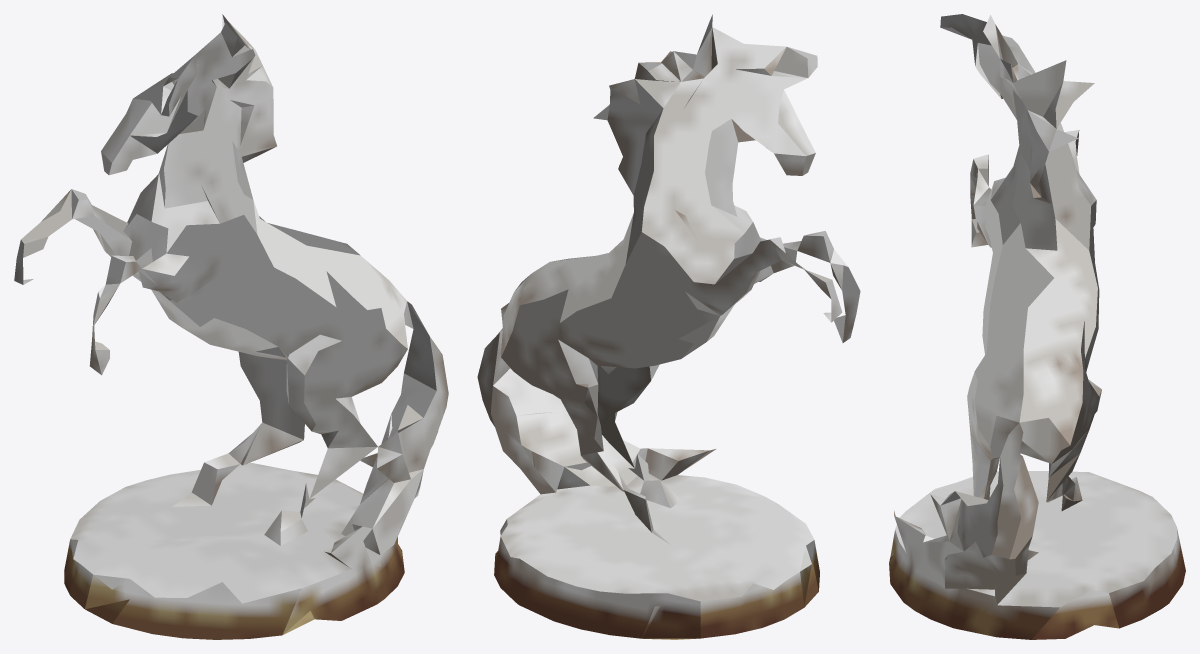
File: horse_statue.obj
3 renders of one model, left to right at view 1: azimuth 30°, elevation 25°; view 2: azimuth 150°, elevation 25°; view 3: azimuth 270°, elevation 25°, orthographic. The views are drawn at different scales.
Visible parts, largest first — view 1: mesh; view 2: mesh; view 3: mesh.
Boxes of the visible parts, x1,y1,x2,y2 form: mesh: (14,14,448,639); mesh: (477,14,860,639); mesh: (889,14,1185,639).
Size of the model in its own units: 17.34 by 24 by 11.91.
Materials: 1 (1 with a texture image).
